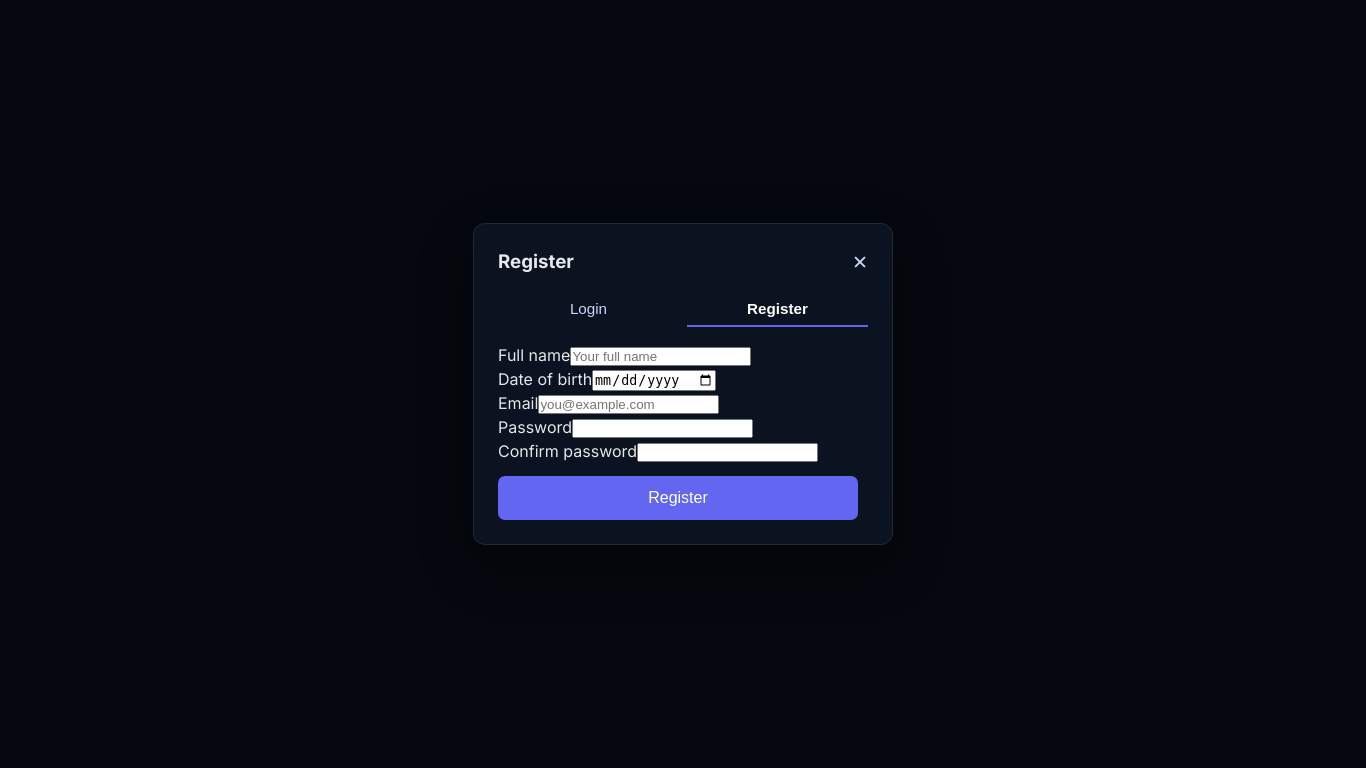
Scenario: AuthModal › Register shows error when confirm password does not match
The width and height of the screenshot is (1366, 768).
Step 1. Type "Jane Doe" into the field labelled "Full name" → (661, 357), box [570, 347, 751, 366]
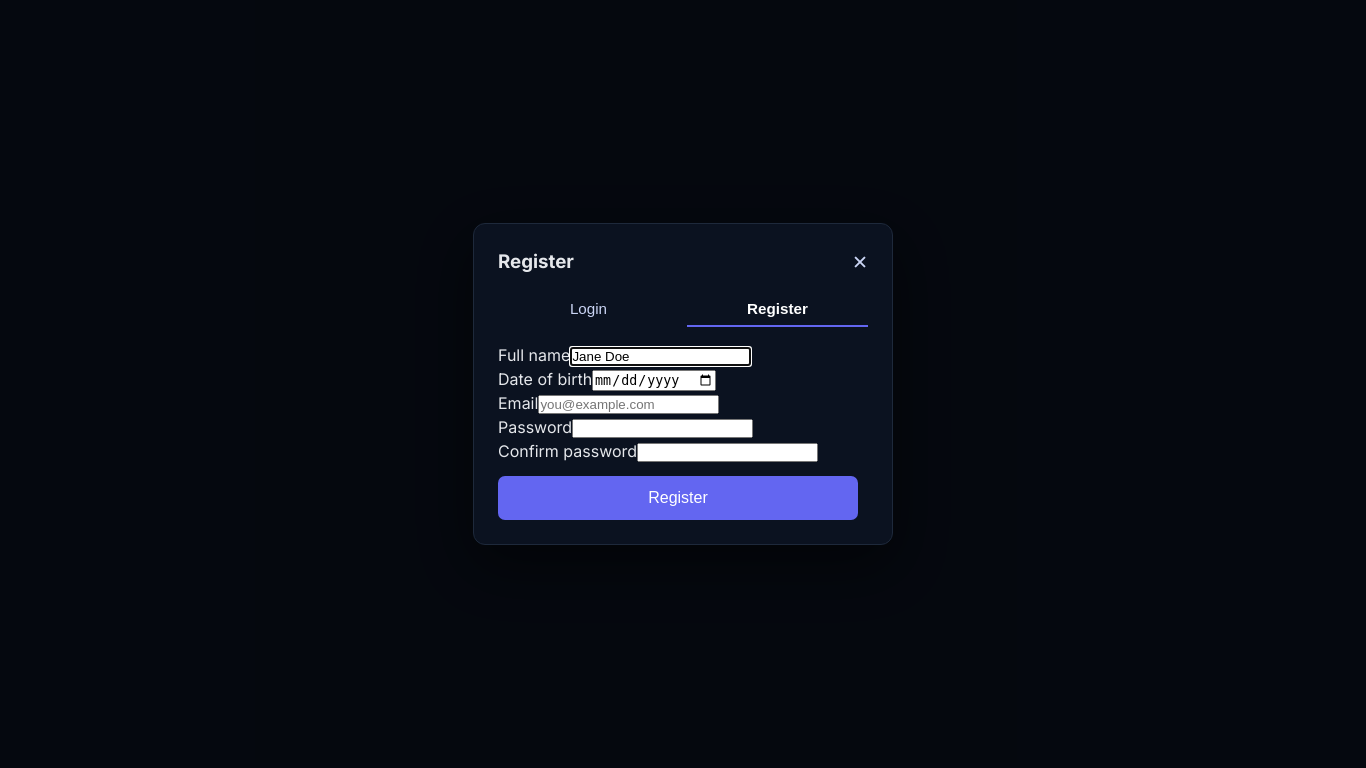
Step 2. Type "1990-01-15" into the date field labelled "Date of birth" → (654, 381), box [592, 370, 716, 391]
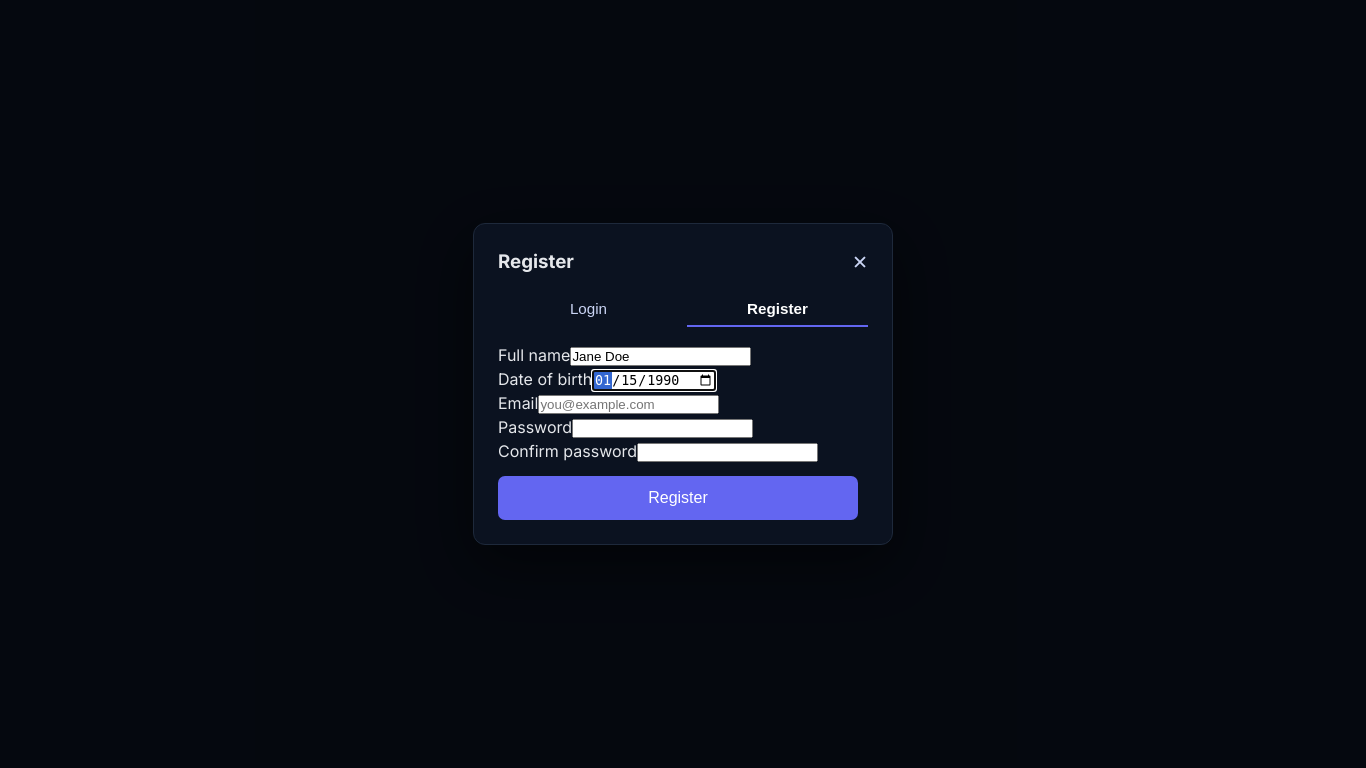
Step 3. Type "jane@example.com" into the field labelled "Email" → (629, 405), box [538, 395, 719, 414]
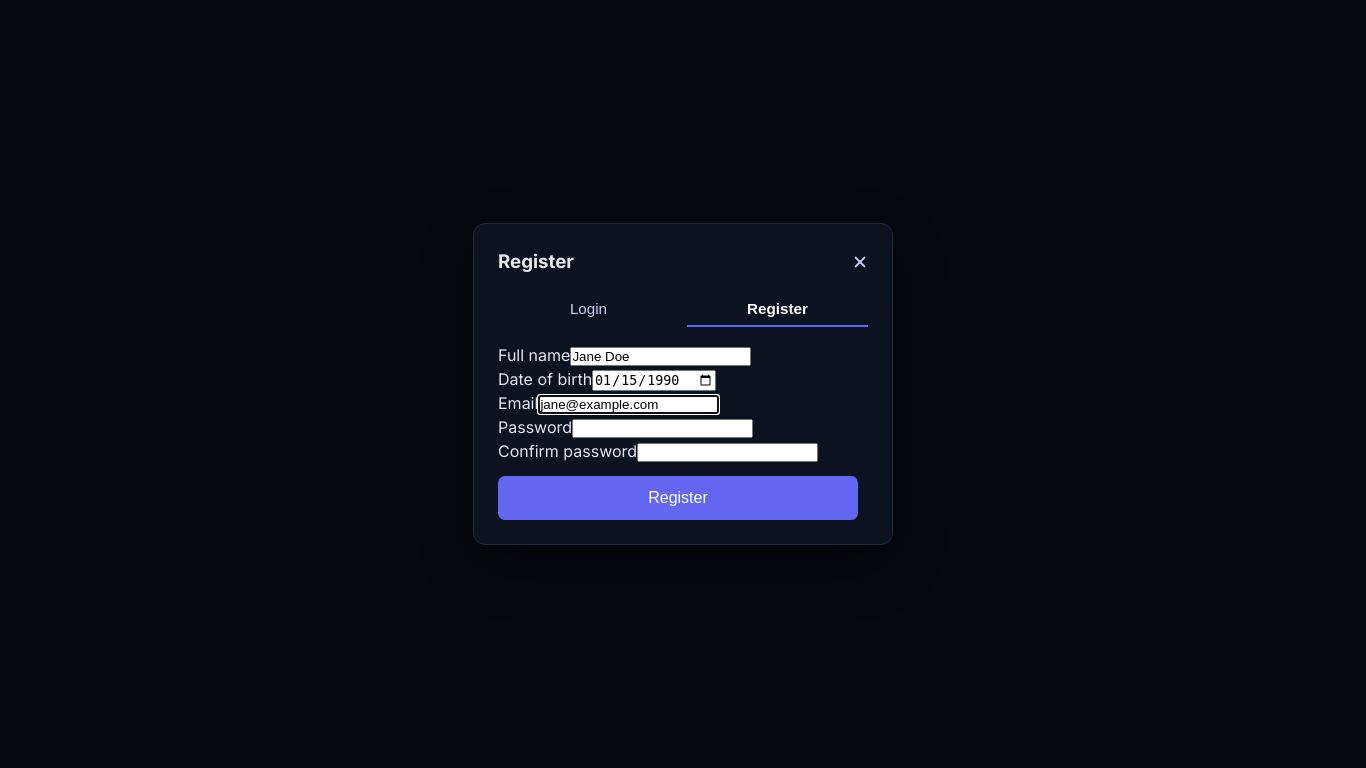
Step 4. Type "secret123" into the password field labelled "Password" → (662, 429), box [572, 419, 753, 438]
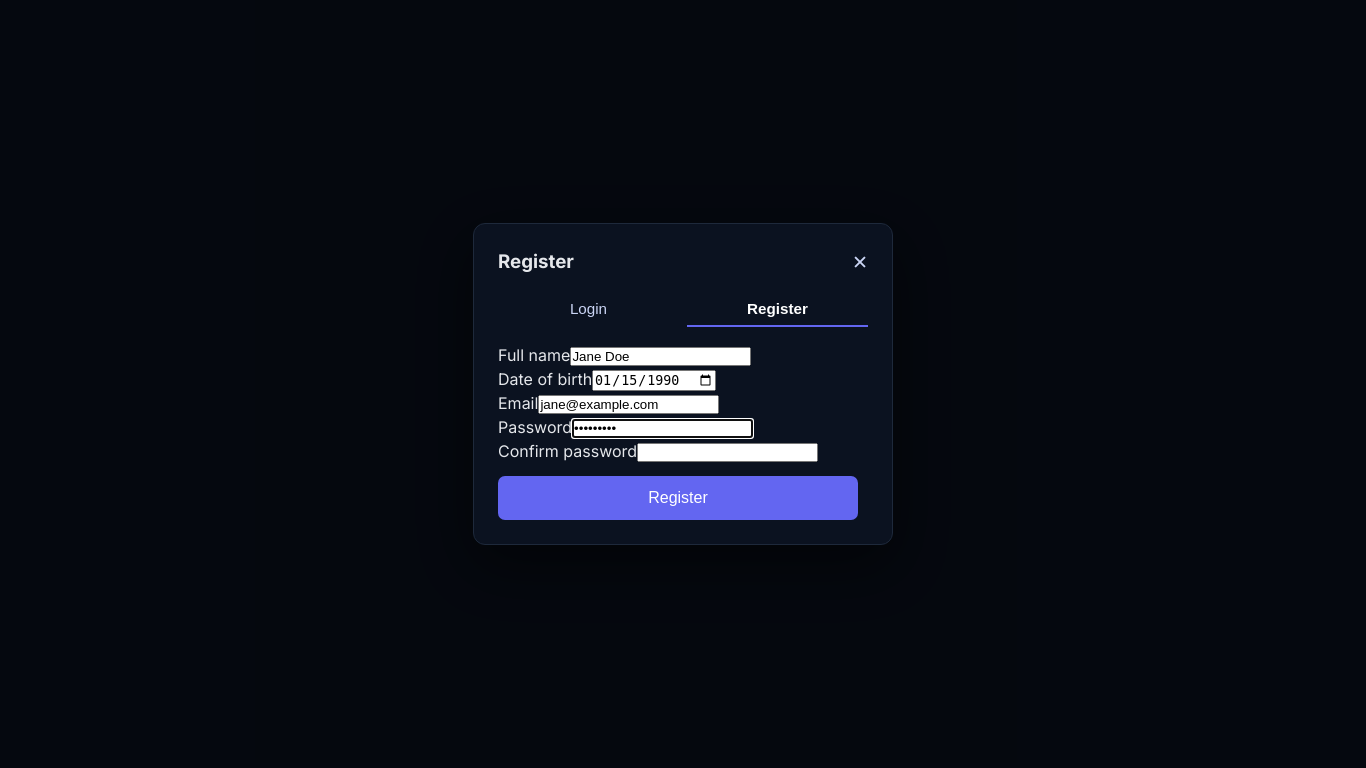
Step 5. Type "different" into the password field labelled "Confirm password" → (728, 453), box [637, 443, 818, 462]
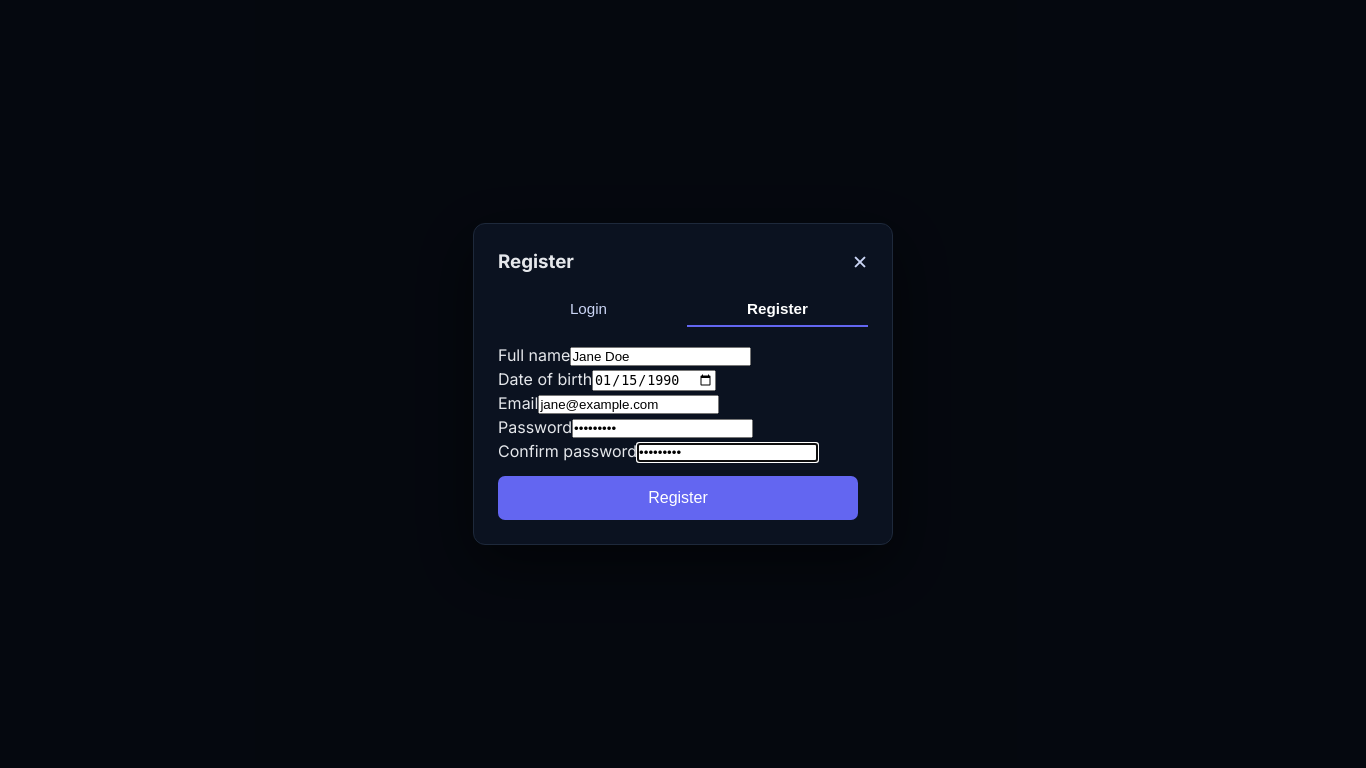
Step 6. Click the button "Register" below "Confirm password" → (678, 498), box [498, 476, 858, 520]
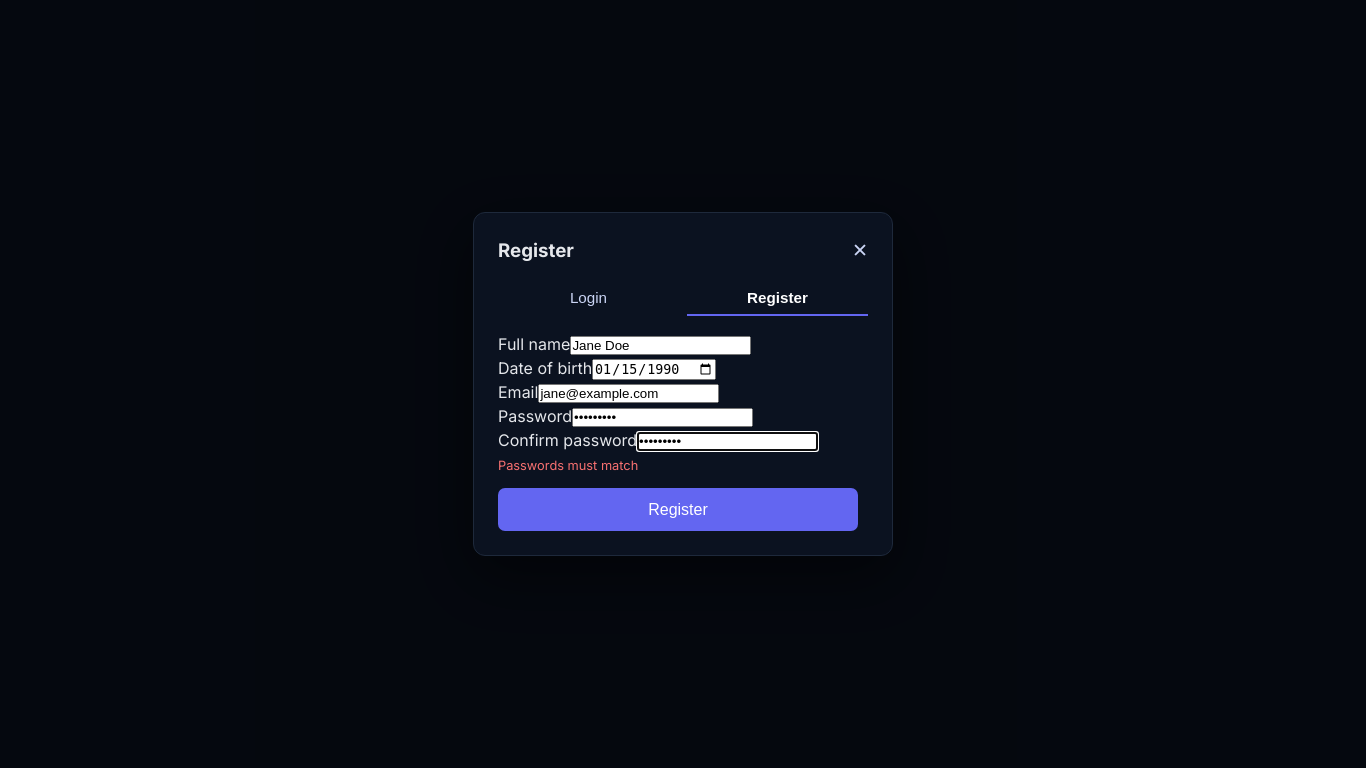
Expected: the text "Passwords must match" is shown, [498, 458, 638, 473]
